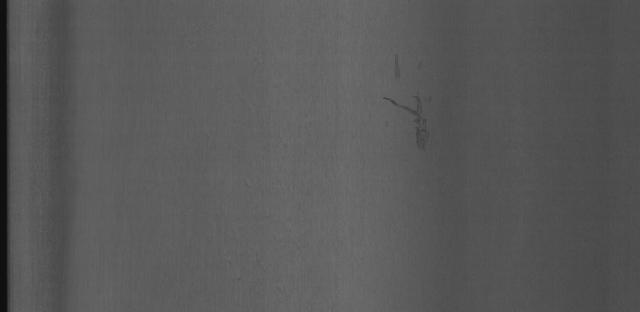water_spot: (369, 54, 447, 158)
